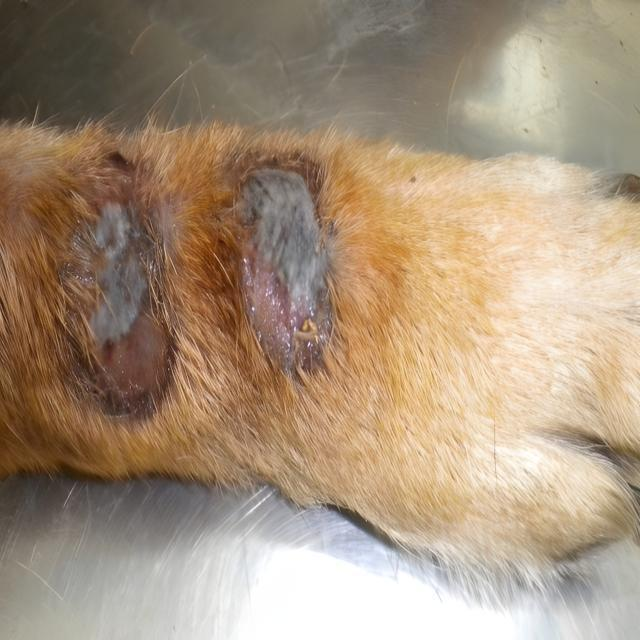allergic dermatitis: (29, 155, 192, 429), (224, 150, 348, 392)
